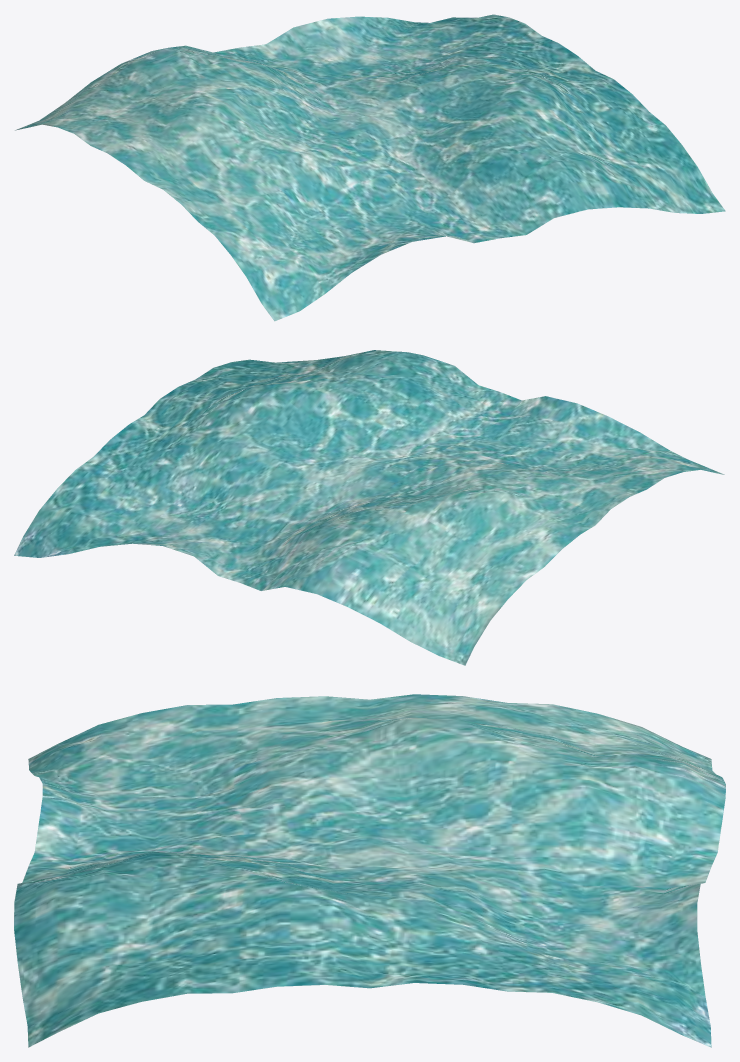
The model's file is water_000098.obj.
3 views of the same model, one above another, from view 1: azimuth 30°, elevation 25°; view 2: azimuth 150°, elevation 25°; view 3: azimuth 270°, elevation 25° (orthographic). The views are drawn at different scales.
Parts seen in each view (by area): view 1: Plan.003_Plan.001; view 2: Plan.003_Plan.001; view 3: Plan.003_Plan.001.
Part boxes in pixels (x1,y1,x2,y2): Plan.003_Plan.001: (15,14,725,321); Plan.003_Plan.001: (14,350,724,665); Plan.003_Plan.001: (14,694,725,1047).
Size of the model in its own units: 60895 by 8962 by 62880.
Materials: 1 (1 with a texture image).
